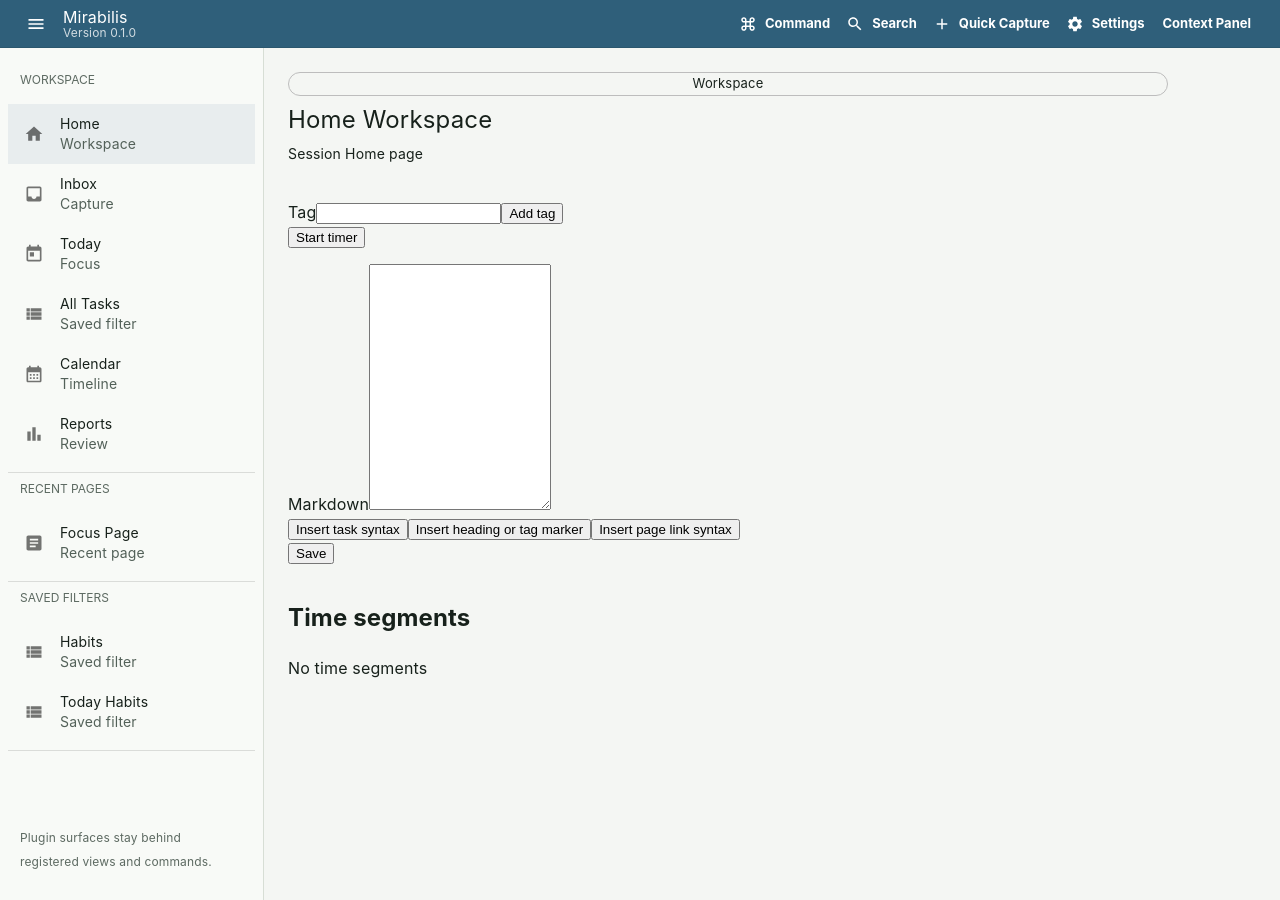
Test: TASK-042 Calendar route › activates the Calendar sidebar route and mounts calendar.day through ViewHost
This screenshot has width=1280, height=900.
Click the button "Calendar Timeline" at (72, 374), box left=24, top=355, right=121, bottom=392
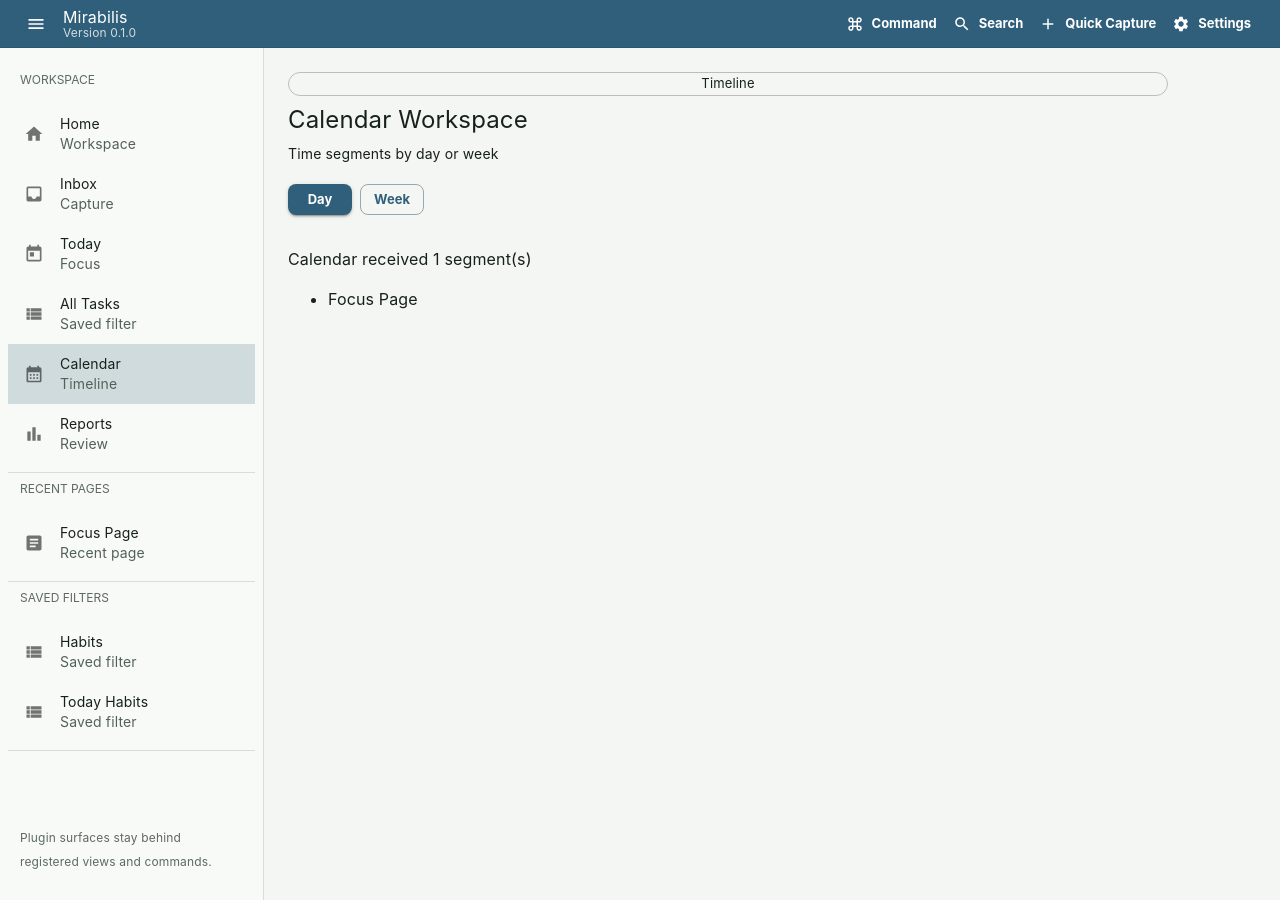
Expected: the element named "Calendar day" is shown, left=288, top=249, right=532, bottom=309
Expected: the element "Calendar" is shown, left=288, top=72, right=1168, bottom=309
Expected: the list item "Focus Page" is shown, left=328, top=289, right=418, bottom=309
